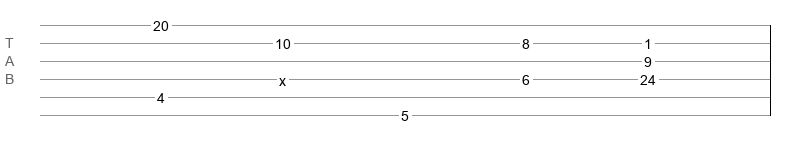1: (644, 36, 652, 46)
10: (275, 36, 291, 46)
20: (153, 18, 169, 28)
24: (640, 72, 656, 82)
4: (157, 90, 165, 100)
5: (401, 108, 409, 118)
6: (522, 72, 530, 82)
8: (522, 36, 530, 46)
9: (644, 54, 652, 64)
x: (279, 73, 286, 81)
